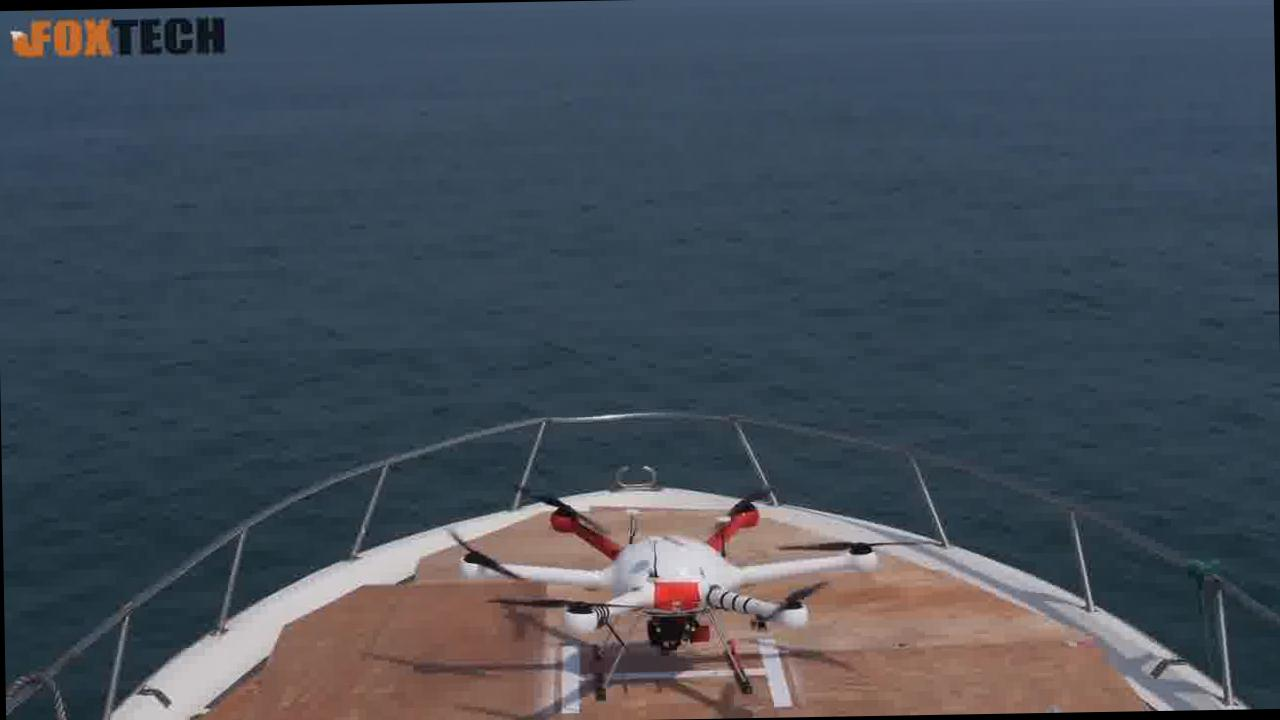drone: (381, 469, 945, 719)
